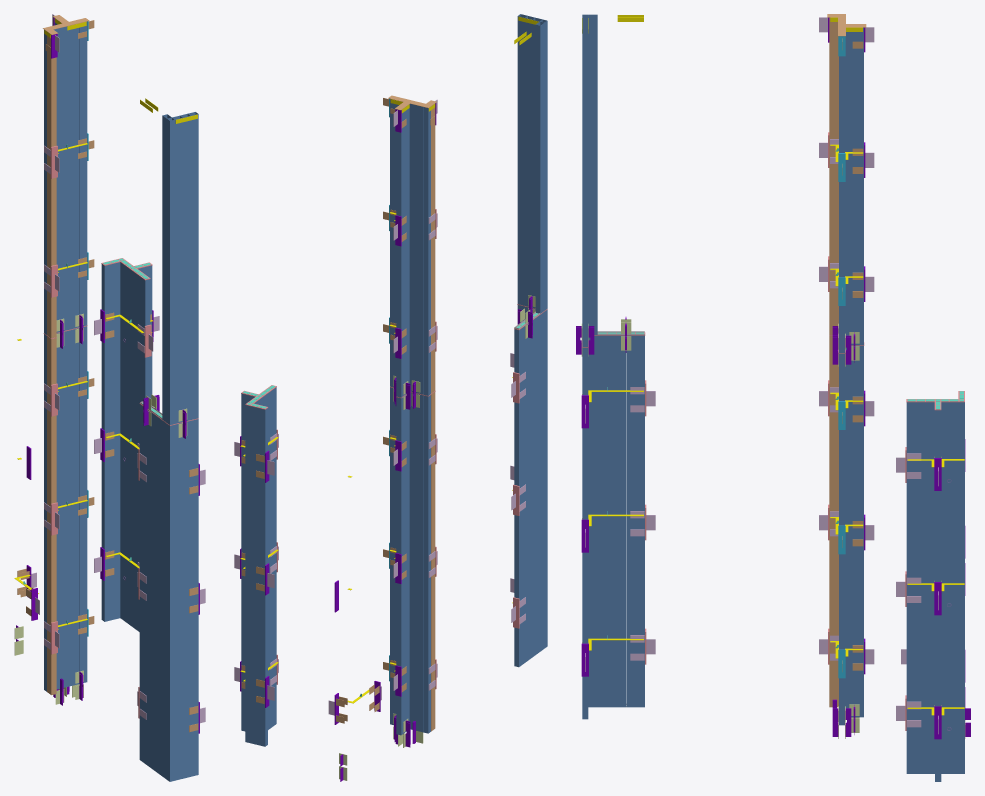
The picture shows the model from 3 angles, left to right: view 1: azimuth 30°, elevation 25°; view 2: azimuth 150°, elevation 25°; view 3: azimuth 270°, elevation 25°; orthographic projection. The views are drawn at different scales.
Visible parts, largest first — view 1: 18-6GSQ[1WbTrB00BngZ4sCZ0qDJ0v], 18-6GSQ[1WbTrB00Bof34sCZ0qDJ0v], 18-6GSQ[1WbTrB00Ax7p4sCZ0qD3Oo], 18-6GSQ[1WbTrB00AxmZ4sCZ0qD3Oo], 18-6GSQ[1WbTrB00CREp4sCZ0qDJ4u], 18-6GSQ[1WbTrB00Az6p4sCZ0qD3Oo], 18-6GSQ[1WbTrB00AwCJ4sCZ0qD3Oo], 18-6GSQ[1WbTrB00Ayq34sCZ0qD3Oo], 18-7GSQ[1WbTrB00DPop4sCZ0qDJCp], 18-6GSQ[1WbTrB00AycZ4sCZ0qD3Oo], 18-7GSQ[1WbTrB00DVyJ4sCZ0qDJCt], 18-7GSQ[1WbTrB00DPCJ4sCZ0qDJCp] (+26 smaller); view 2: 18-6GSQ[1WbTrB00BngZ4sCZ0qDJ0v], 18-7GSQ[1WbTrB00DP4J4sCZ0qDJCp], 18-6GSQ[1WbTrB00CFZJ4sCZ0qDJ4s], 18-6GSQ[1WbTrB00CR_J4sCZ0qDJ4u], 18-6GSQ[1WbTrB00BlM34sCZ0qDJ0v], 18-6GSQ[1WbTrB00Bof34sCZ0qDJ0v], 18-6GSQ[1WbTrB00CRs34sCZ0qDJ4u], 18-7GSQ[1WbTrB00DTXJ4sCZ0qDJCt], 18-7GSQ[1WbTrB00DUW34sCZ0qDJCt], 18-7GSQ[1WbTrB00DPop4sCZ0qDJCp], 18-6GSQ[1WbTrB00Blop4sCZ0qDJ0v], 18-7GSQ[1WbTrB00DUpp4sCZ0qDJCt] (+20 smaller); view 3: 18-6GSQ[1WbTrB00C8gJ4sCZ0qDJ4o], 18-6GSQ[1WbTrB00CR4p4sCZ0qDJ4t], 18-6GSQ[1WbTrB00CXsZ4sCZ0qDJ4u], 18-6GSQ[1WbTrB00CWOZ4sCZ0qDJ4u], 18-6GSQ[1WbTrB00CMo34sCZ0qDJ4s], 18-6GSQ[1WbTrB00CV$34sCZ0qDJ4u], 18-6GSQ[1WbTrB00CNBZ4sCZ0qDJ4s], 18-6GSQ[1WbTrB00BlBp4sCZ0qDJ0v], 18-6GSQ[1WbTrB00CFZJ4sCZ0qDJ4s], 18-6GSQ[1WbTrB00CU$34sCZ0qDJ4u], 18-6GSQ[1WbTrB00C8qJ4sCZ0qDJ4o], 18-6GSQ[1WbTrB00CXZJ4sCZ0qDJ4u] (+12 smaller).
Part boxes in pixels (left/top/right/bottom): 18-6GSQ[1WbTrB00BngZ4sCZ0qDJ0v]: left=101, top=264, right=112, bottom=621; 18-6GSQ[1WbTrB00Bof34sCZ0qDJ0v]: left=112, top=262, right=120, bottom=619; 18-6GSQ[1WbTrB00Ax7p4sCZ0qD3Oo]: left=71, top=328, right=79, bottom=685; 18-6GSQ[1WbTrB00AxmZ4sCZ0qD3Oo]: left=190, top=419, right=198, bottom=776; 18-6GSQ[1WbTrB00CREp4sCZ0qDJ4u]: left=47, top=336, right=56, bottom=695; 18-6GSQ[1WbTrB00Az6p4sCZ0qD3Oo]: left=167, top=424, right=174, bottom=781; 18-6GSQ[1WbTrB00AwCJ4sCZ0qD3Oo]: left=79, top=326, right=87, bottom=683; 18-6GSQ[1WbTrB00Ayq34sCZ0qD3Oo]: left=175, top=423, right=182, bottom=780; 18-7GSQ[1WbTrB00DPop4sCZ0qDJCp]: left=188, top=112, right=198, bottom=419; 18-6GSQ[1WbTrB00AycZ4sCZ0qD3Oo]: left=183, top=421, right=190, bottom=778; 18-7GSQ[1WbTrB00DVyJ4sCZ0qDJCt]: left=71, top=28, right=79, bottom=328; 18-7GSQ[1WbTrB00DPCJ4sCZ0qDJCp]: left=167, top=117, right=174, bottom=424; 18-6GSQ[1WbTrB00BngZ4sCZ0qDJ0v]: left=257, top=408, right=267, bottom=746; 18-7GSQ[1WbTrB00DP4J4sCZ0qDJCp]: left=535, top=21, right=544, bottom=313; 18-6GSQ[1WbTrB00CFZJ4sCZ0qDJ4s]: left=514, top=327, right=523, bottom=667; 18-6GSQ[1WbTrB00CR_J4sCZ0qDJ4u]: left=396, top=395, right=405, bottom=735; 18-6GSQ[1WbTrB00BlM34sCZ0qDJ0v]: left=416, top=393, right=423, bottom=732; 18-6GSQ[1WbTrB00Bof34sCZ0qDJ0v]: left=250, top=406, right=257, bottom=744; 18-6GSQ[1WbTrB00CRs34sCZ0qDJ4u]: left=423, top=395, right=430, bottom=733; 18-7GSQ[1WbTrB00DTXJ4sCZ0qDJCt]: left=396, top=111, right=405, bottom=397; 18-7GSQ[1WbTrB00DUW34sCZ0qDJCt]: left=416, top=105, right=423, bottom=394; 18-7GSQ[1WbTrB00DPop4sCZ0qDJCp]: left=517, top=14, right=527, bottom=305; 18-6GSQ[1WbTrB00Blop4sCZ0qDJ0v]: left=409, top=392, right=415, bottom=729; 18-7GSQ[1WbTrB00DUpp4sCZ0qDJCt]: left=423, top=107, right=430, bottom=395; 18-6GSQ[1WbTrB00C8gJ4sCZ0qDJ4o]: left=597, top=335, right=607, bottom=707; 18-6GSQ[1WbTrB00CR4p4sCZ0qDJ4t]: left=607, top=335, right=616, bottom=707; 18-6GSQ[1WbTrB00CXsZ4sCZ0qDJ4u]: left=949, top=402, right=958, bottom=773; 18-6GSQ[1WbTrB00CWOZ4sCZ0qDJ4u]: left=925, top=402, right=934, bottom=773; 18-6GSQ[1WbTrB00CMo34sCZ0qDJ4s]: left=616, top=335, right=625, bottom=707; 18-6GSQ[1WbTrB00CV$34sCZ0qDJ4u]: left=916, top=402, right=925, bottom=773; 18-6GSQ[1WbTrB00CNBZ4sCZ0qDJ4s]: left=626, top=335, right=635, bottom=707; 18-6GSQ[1WbTrB00BlBp4sCZ0qDJ0v]: left=588, top=335, right=597, bottom=707; 18-6GSQ[1WbTrB00CFZJ4sCZ0qDJ4s]: left=635, top=335, right=644, bottom=707; 18-6GSQ[1WbTrB00CU$34sCZ0qDJ4u]: left=906, top=402, right=915, bottom=773; 18-6GSQ[1WbTrB00C8qJ4sCZ0qDJ4o]: left=845, top=345, right=854, bottom=717; 18-6GSQ[1WbTrB00CXZJ4sCZ0qDJ4u]: left=941, top=402, right=949, bottom=773.
Size of the model in its own units: 4.22 by 16.49 by 8.36.
